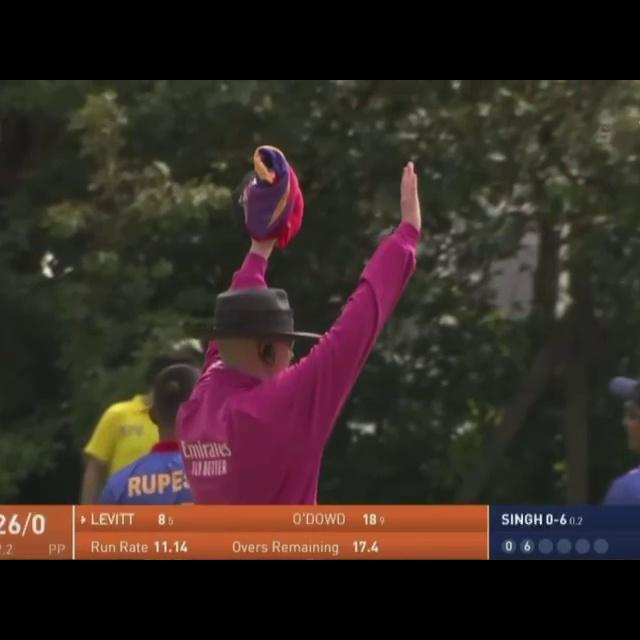umpire: (118, 114, 455, 469)
